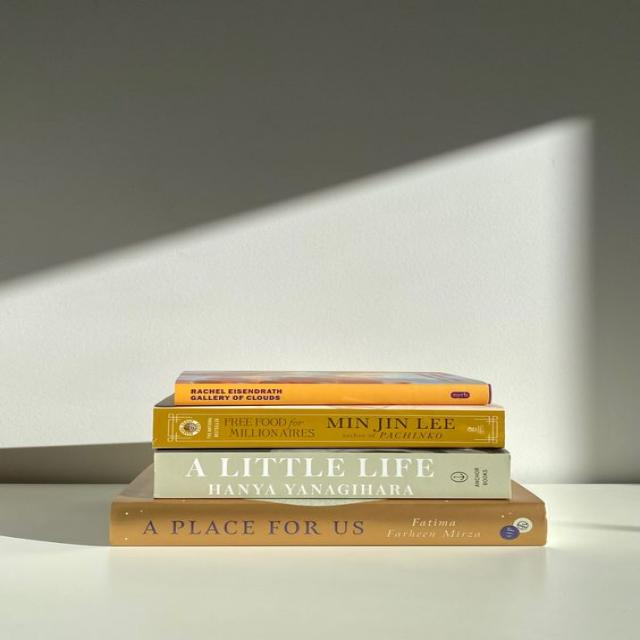book: (111, 502, 546, 544), (155, 454, 510, 498), (154, 408, 504, 450), (175, 382, 491, 405)
